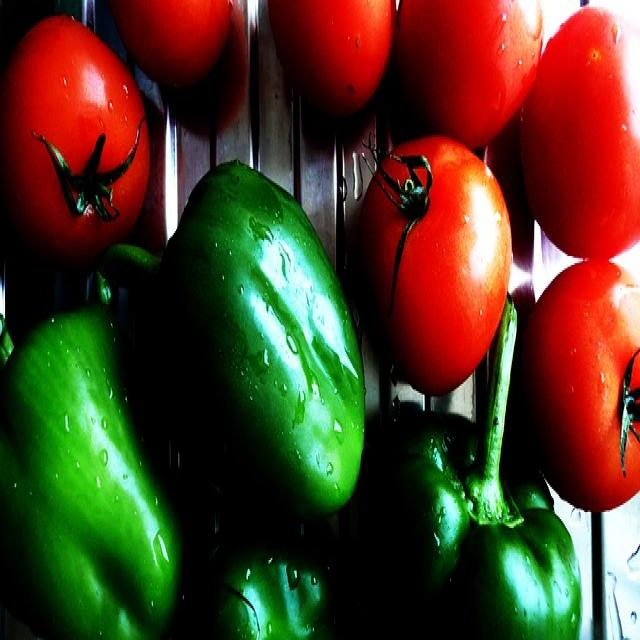pepper: (103, 199, 363, 522), (0, 315, 178, 640), (380, 407, 546, 640), (188, 531, 356, 640)
tomatoes: (352, 135, 514, 394), (2, 4, 150, 253), (522, 258, 640, 515), (521, 4, 640, 256), (399, 1, 544, 155), (268, 0, 397, 114), (117, 2, 232, 82)
